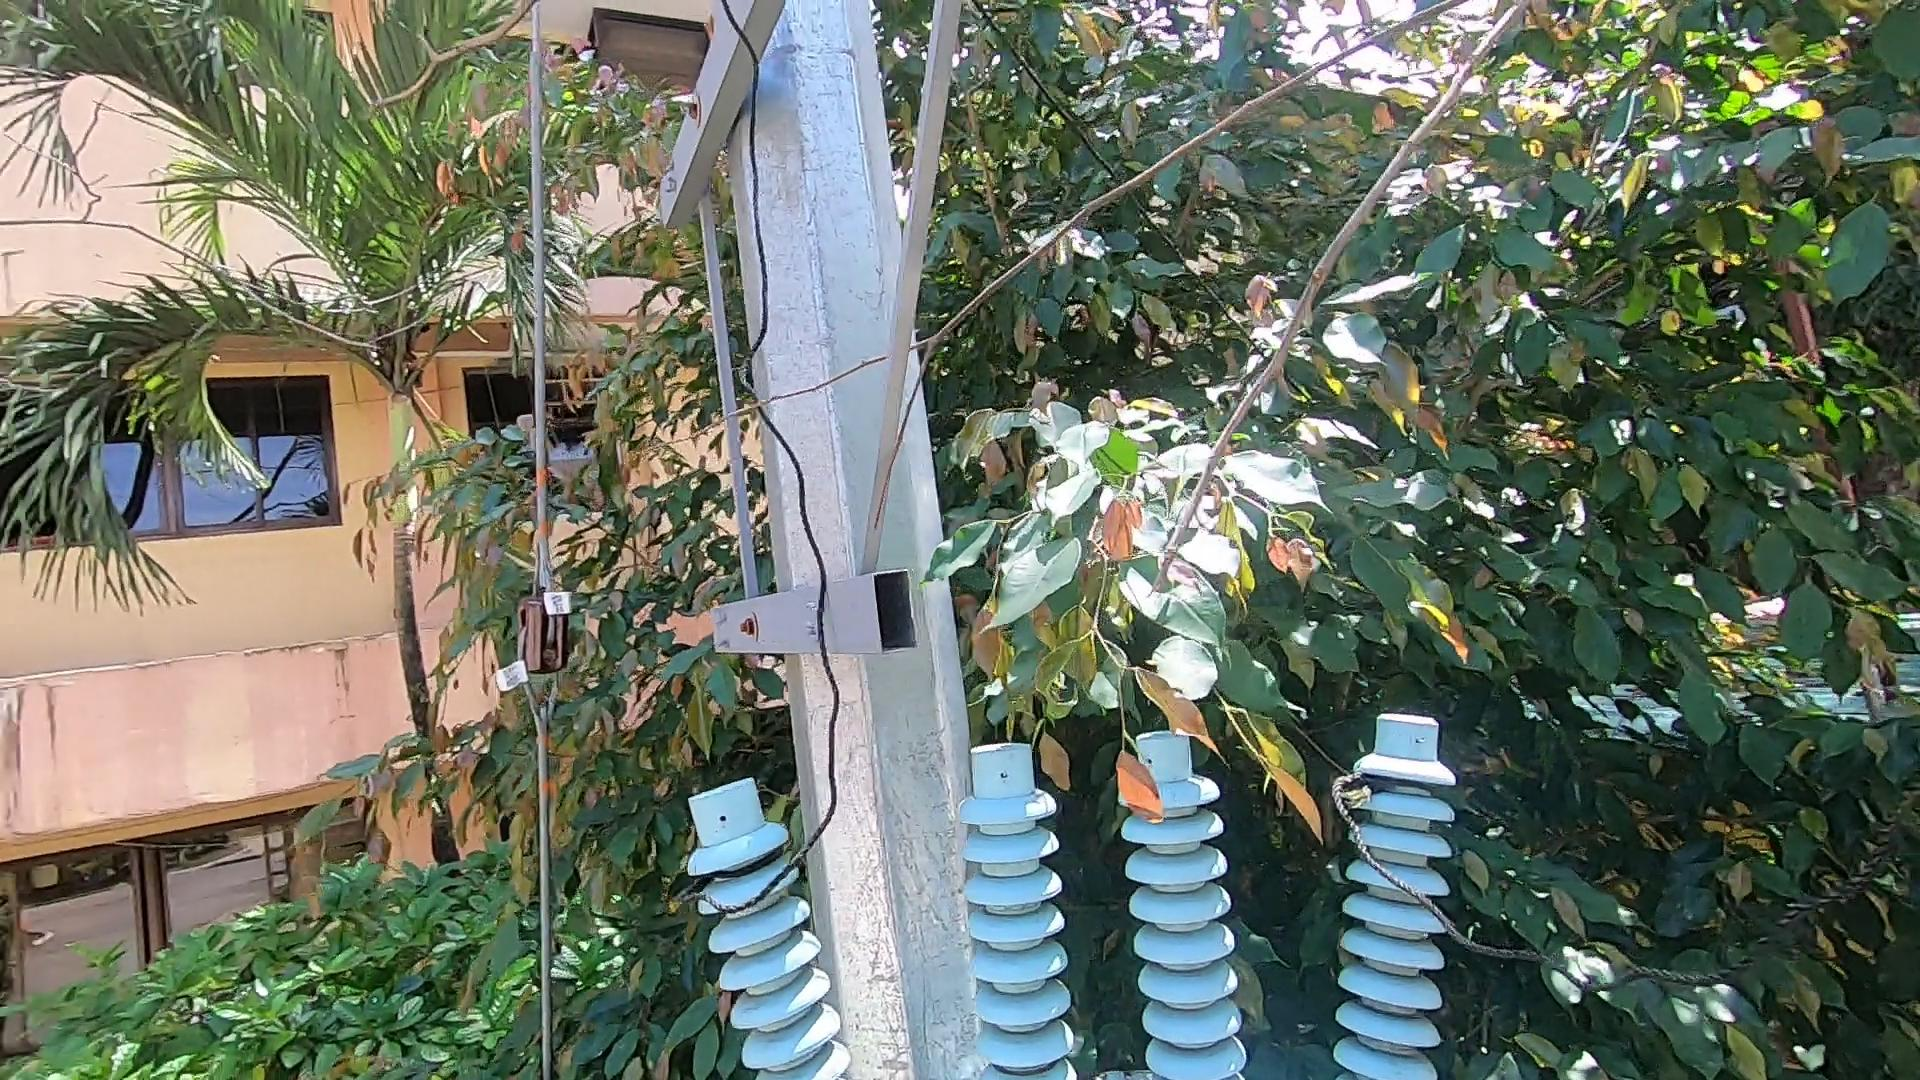branch with leaves: (1083, 665, 1333, 841)
tree branch: (498, 127, 1378, 582)
